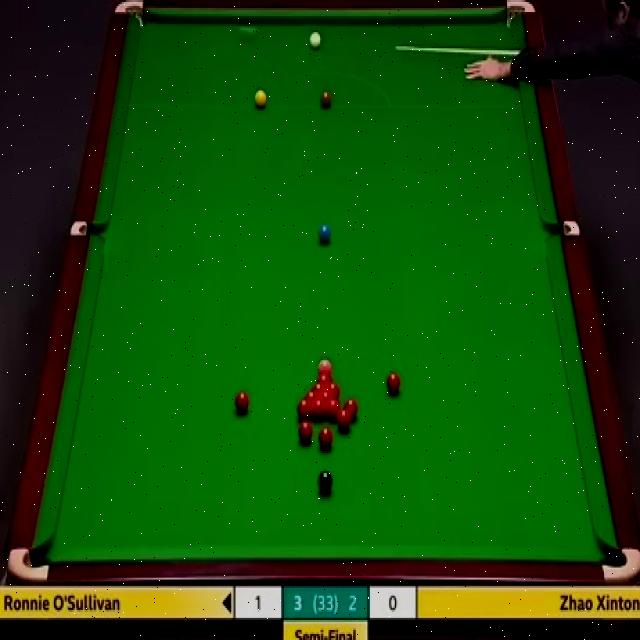black-ball: (318, 469, 334, 495)
blue-ball: (318, 223, 331, 243)
brown-ball: (319, 90, 332, 108)
green-ball: (237, 21, 258, 47)
pink-ball: (318, 356, 332, 369)
red-ball: (233, 390, 250, 416), (386, 371, 401, 396), (298, 420, 314, 443), (318, 426, 333, 449), (336, 409, 351, 432), (343, 397, 358, 420), (296, 397, 311, 419), (326, 398, 341, 420), (311, 397, 325, 418), (327, 380, 340, 396), (314, 370, 332, 380), (310, 380, 326, 390), (318, 389, 334, 398), (304, 389, 318, 398)
white-ball: (308, 30, 322, 54)
yellow-ball: (254, 89, 266, 108)
